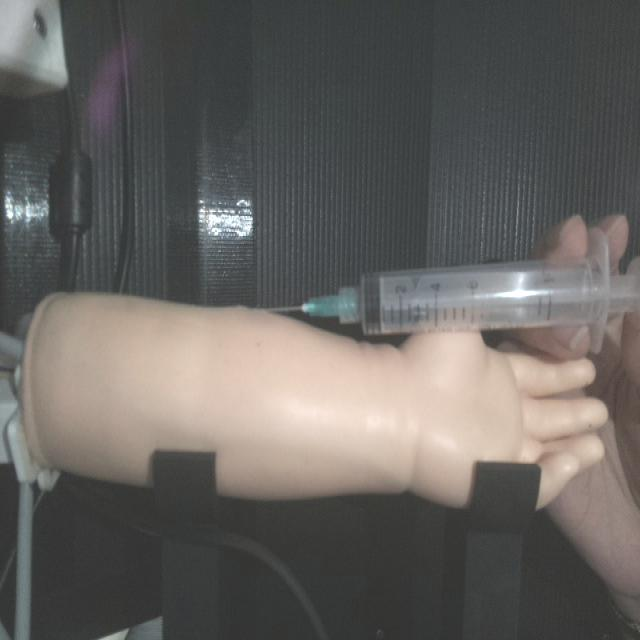Below 15 degrees: (259, 245, 637, 343)
